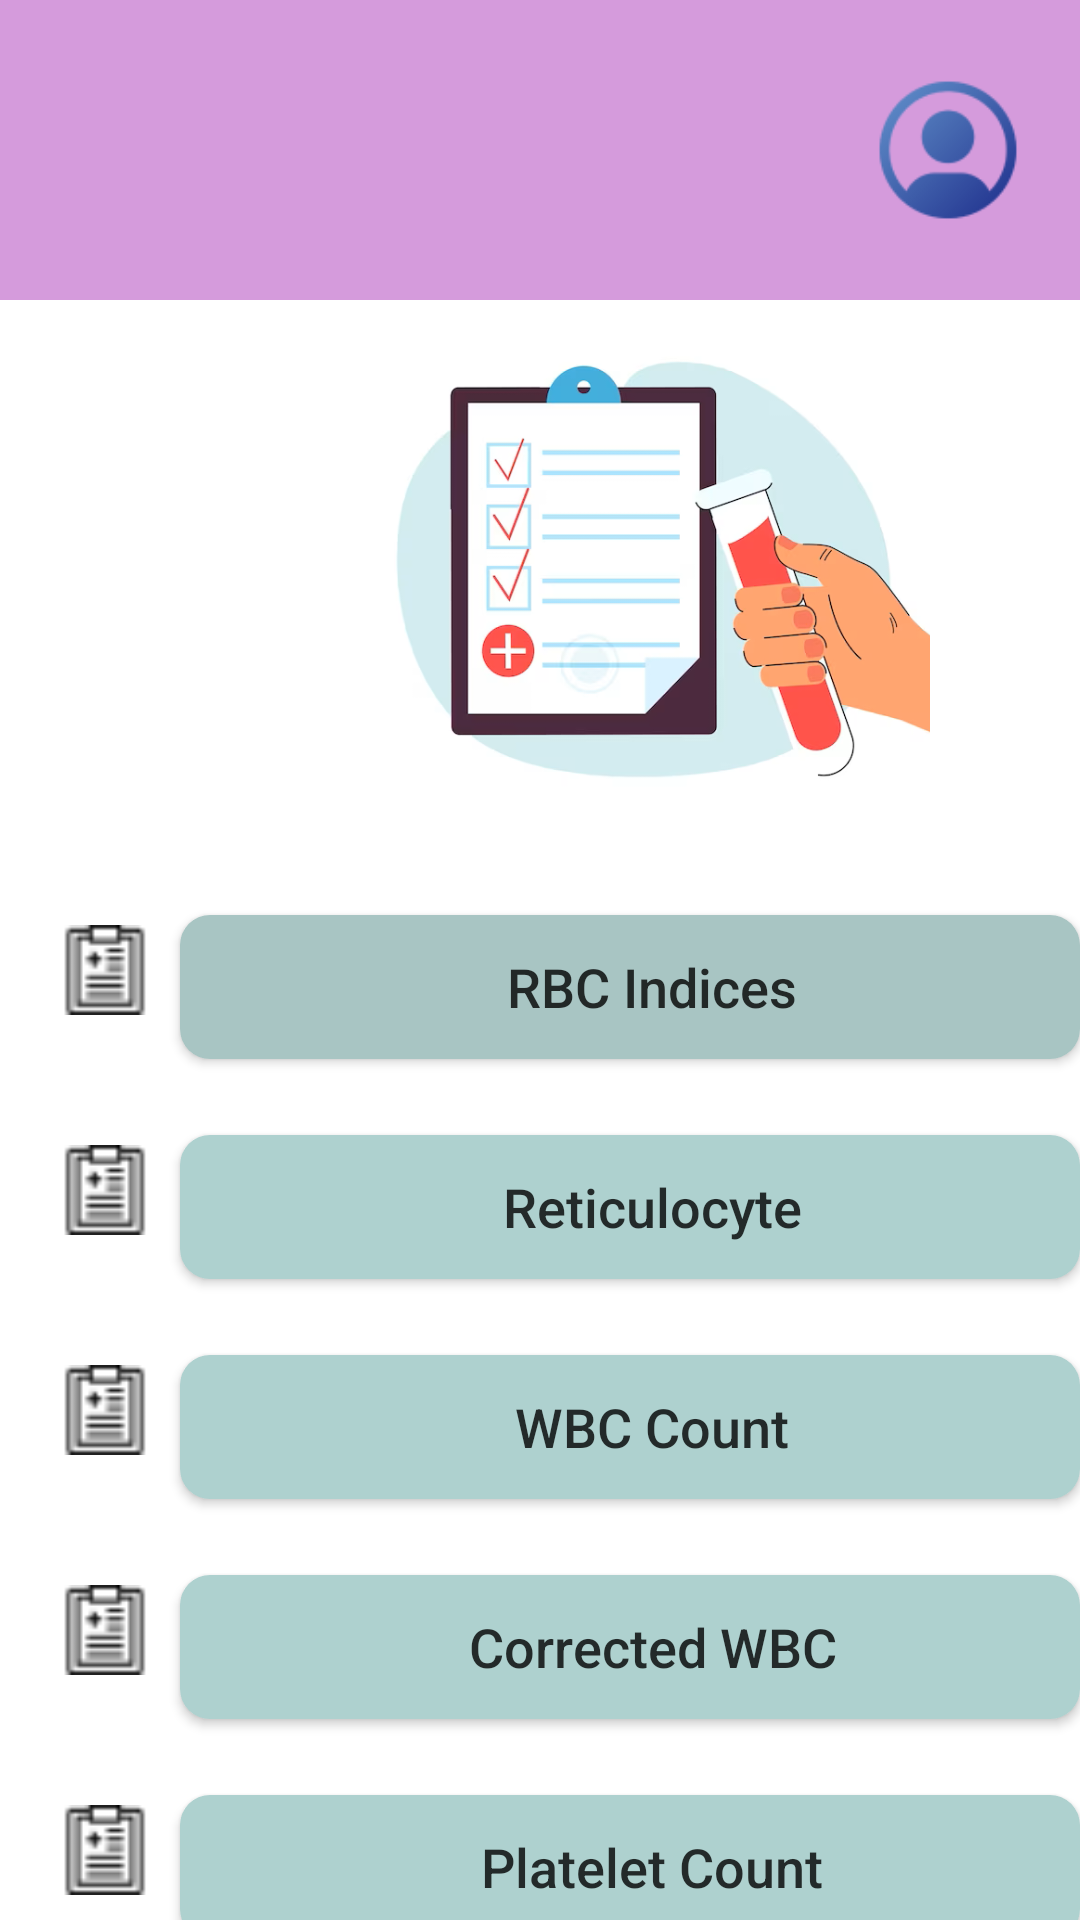

Icon bounding boxes for this 1080×1920 phone screenshot, format (x1, y1, x2, y2):
profile: (879, 81, 1017, 219)
